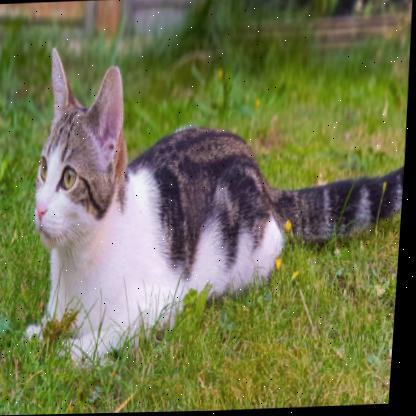cat: (27, 55, 290, 283)
